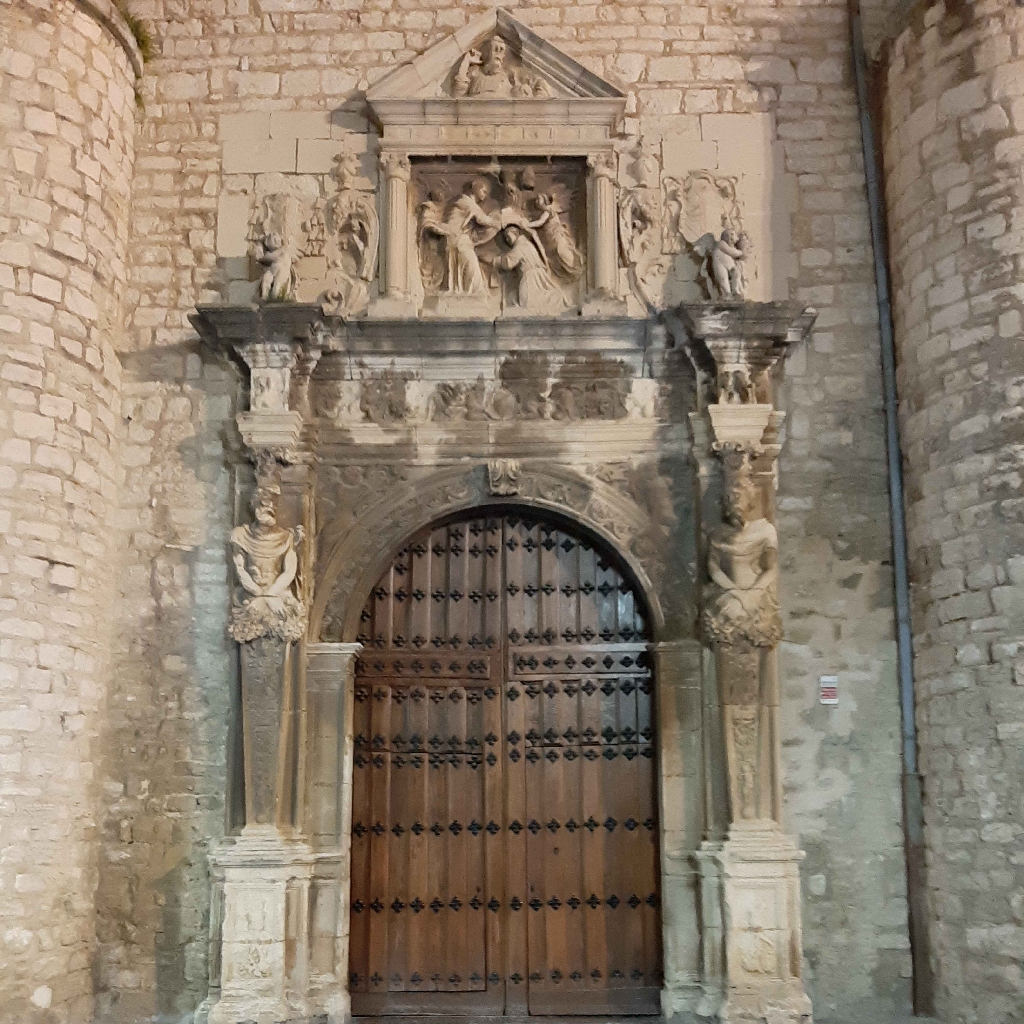arco-medio-punto: (334, 483, 671, 684)
fronton: (355, 5, 631, 120)
